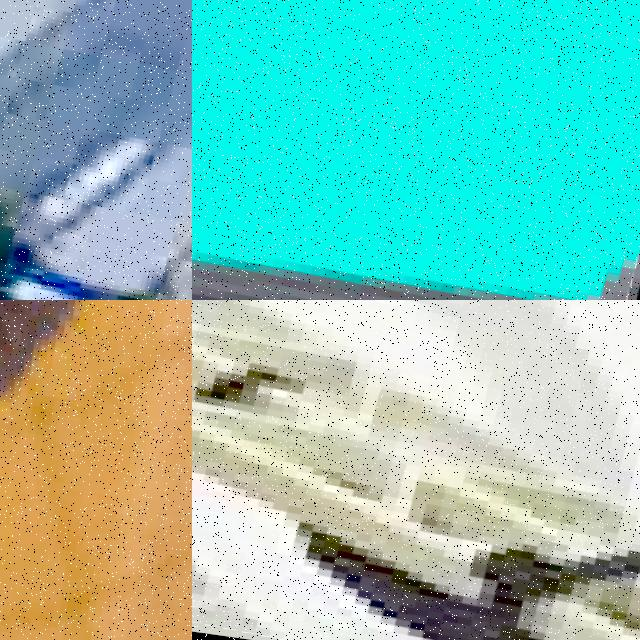0: (0, 0, 192, 300)
drone: (192, 300, 640, 640), (192, 0, 640, 300)
